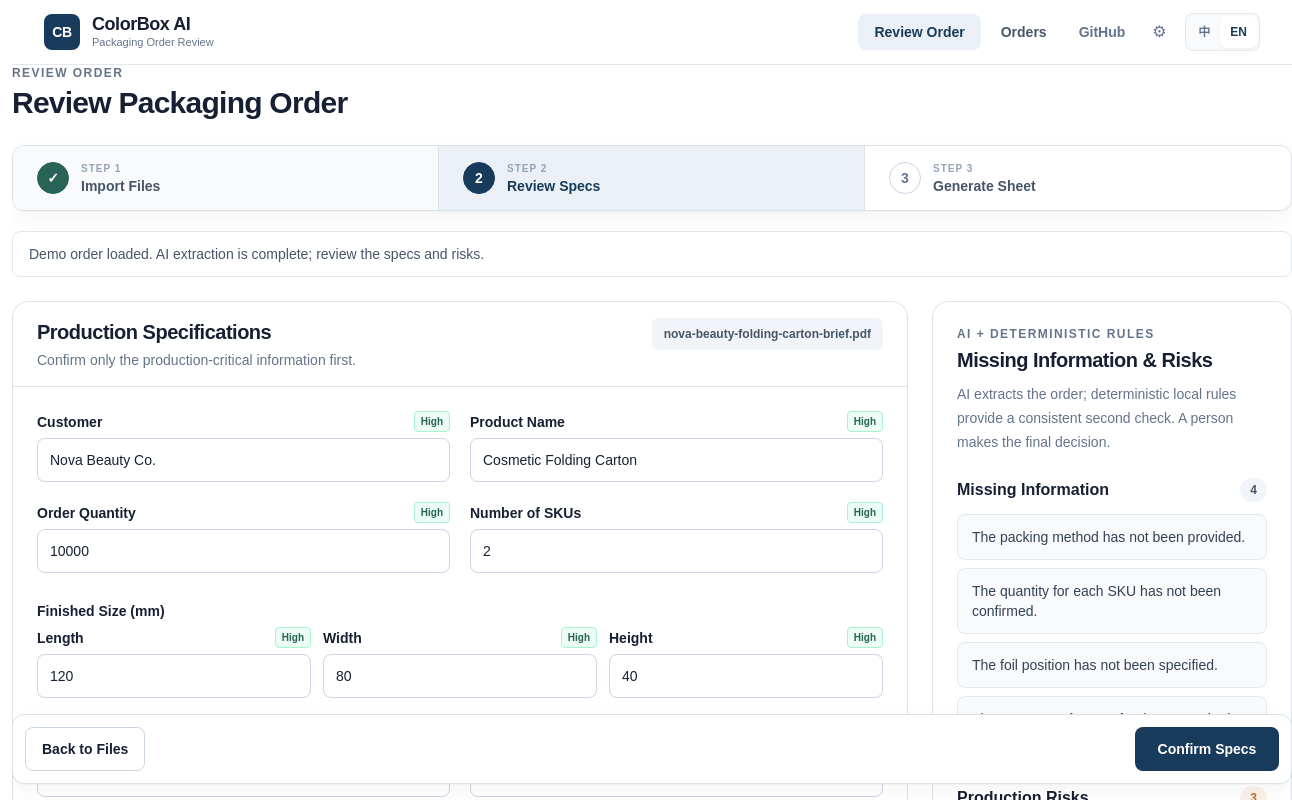
Test case: Public Demo Generate Sheet interaction › folding-carton confirms specs and generates a sheet without persistence
Check: the field showing "Nova Beauty Co." is shown, box x1=37 y1=438 x2=450 y2=482
What coordinates should you click on to do the following:
click the button "Confirm Specs"
I would click on:
 (1207, 749)
Its box is x1=1135 y1=727 x2=1279 y2=771.
(page scrolled)
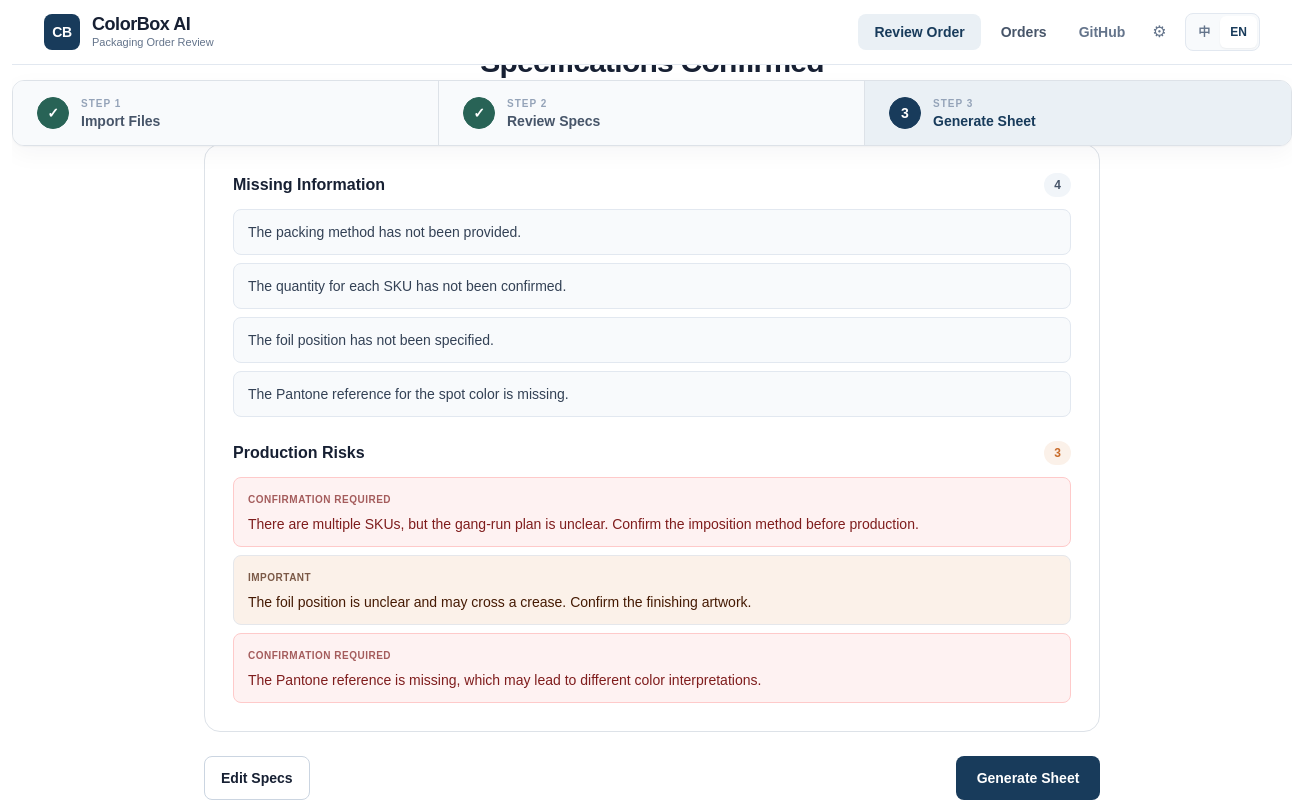
Check: the heading "Specifications Confirmed" is shown, box x1=480 y1=45 x2=824 y2=78
What coordinates should you click on to do the following:
click the button "Generate Sheet"
I would click on:
 (1028, 778)
Its box is x1=956 y1=756 x2=1100 y2=799.
(page scrolled)
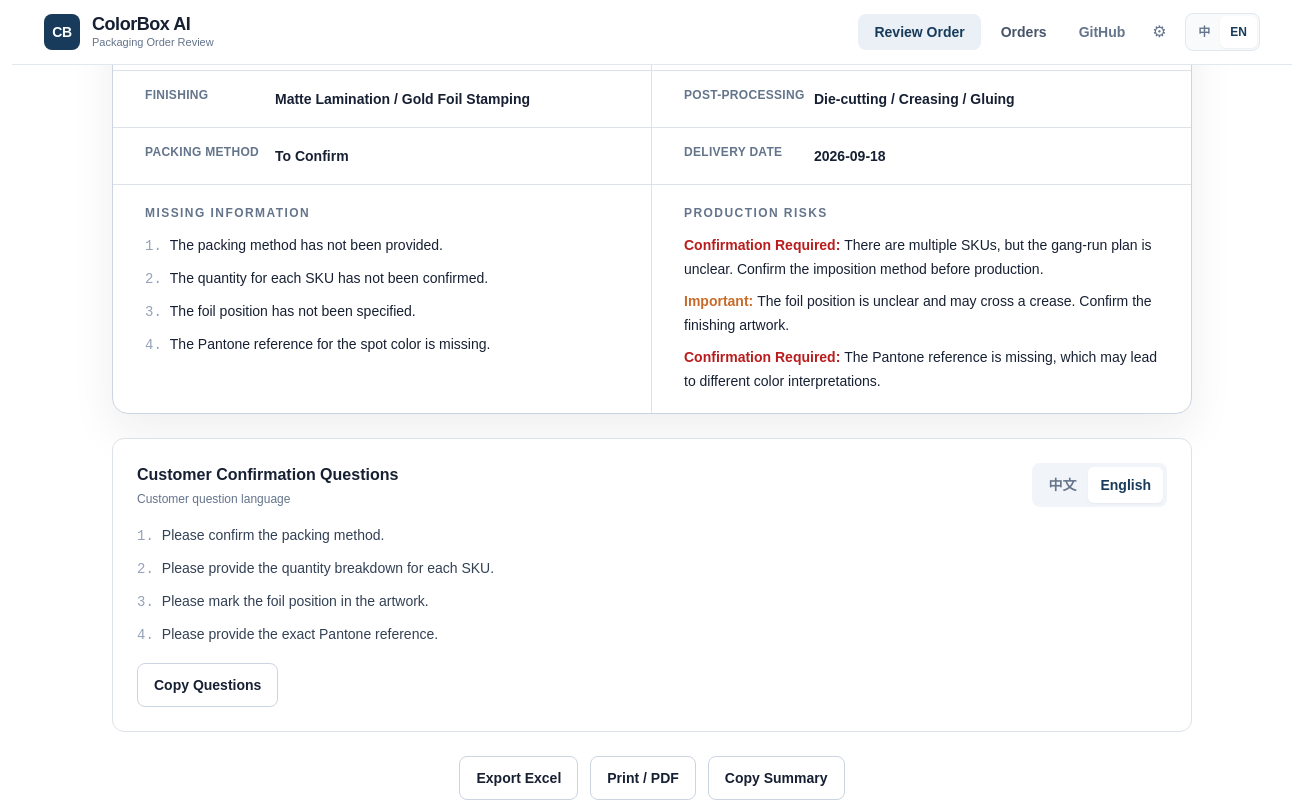
Check: the button "Export Excel" is shown, box x1=460 y1=756 x2=578 y2=799
Check: the button "Print / PDF" is shown, box x1=590 y1=756 x2=696 y2=799
